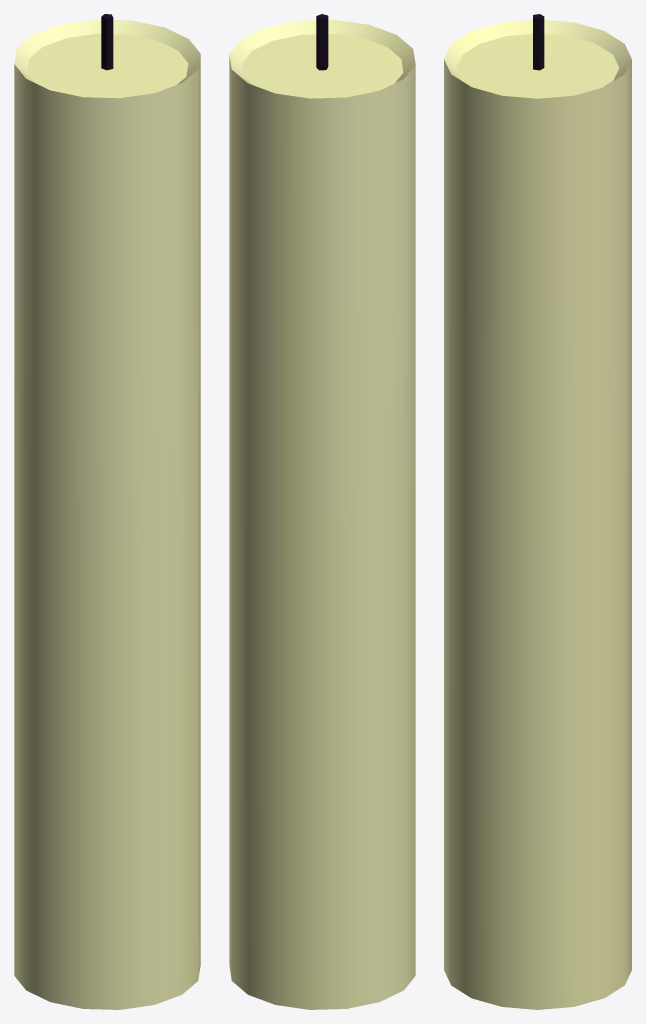
Rendered from Candle 3.fbx.
3 views of the same model, side by side, from view 1: azimuth 30°, elevation 25°; view 2: azimuth 150°, elevation 25°; view 3: azimuth 270°, elevation 25° (orthographic).
Visible parts, largest first — view 1: Cylinder; view 2: Cylinder; view 3: Cylinder.
Part boxes in pixels (<box>): Cylinder: <box>14,14,200,1009</box>; Cylinder: <box>229,14,415,1009</box>; Cylinder: <box>444,14,631,1009</box>.
Bounding box in the file's own units: 52.19 × 292 × 52.19.
Materials: 1 (1 with a texture image).
